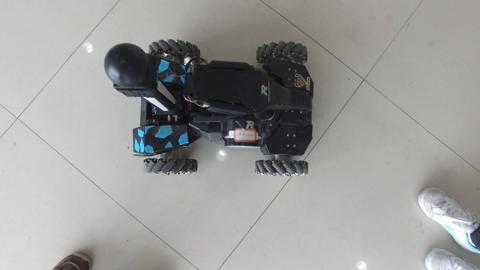chariot: (95, 35, 322, 176)
